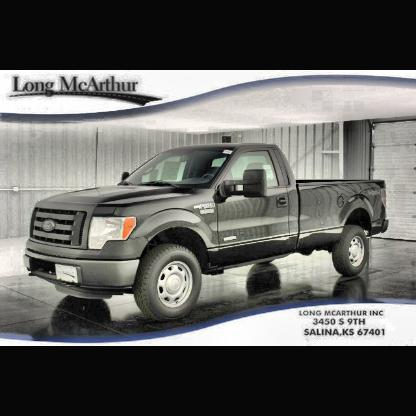Ford F-150 Regular Cab 2012: (24, 135, 393, 326)
